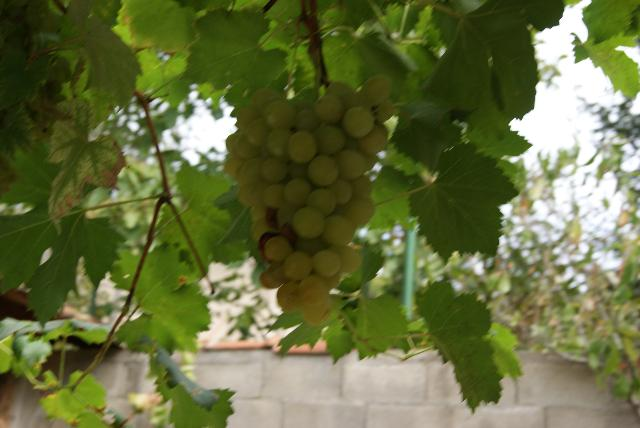grapes: (224, 75, 395, 325)
